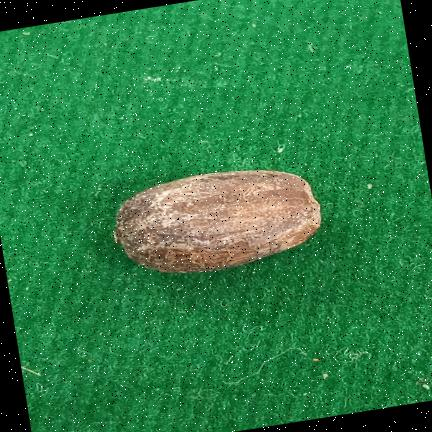full-black: (114, 170, 321, 273)
